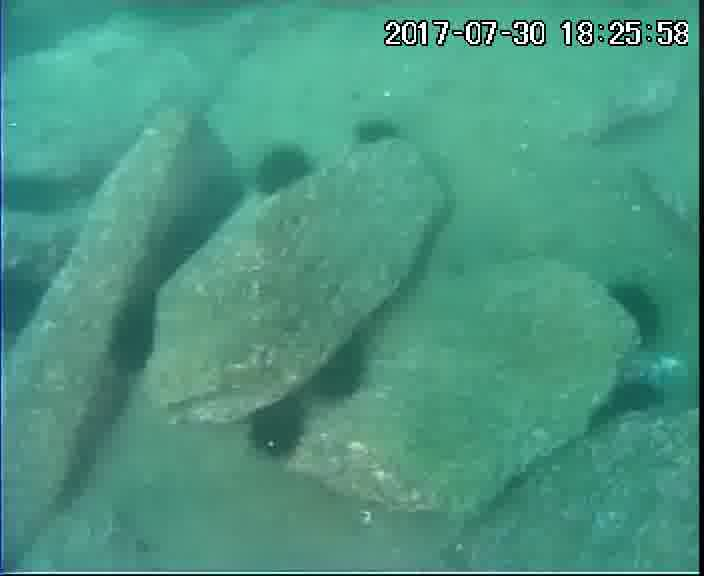echinus: (107, 294, 160, 381), (310, 341, 369, 408), (251, 144, 322, 199), (247, 397, 311, 458), (607, 281, 665, 346), (1, 172, 76, 222), (190, 170, 249, 230), (160, 213, 210, 277), (2, 272, 45, 338), (603, 378, 663, 420), (351, 114, 401, 150)
